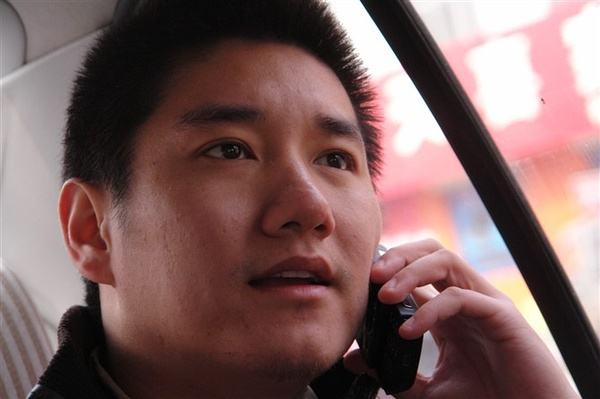calling: (364, 236, 577, 395)
